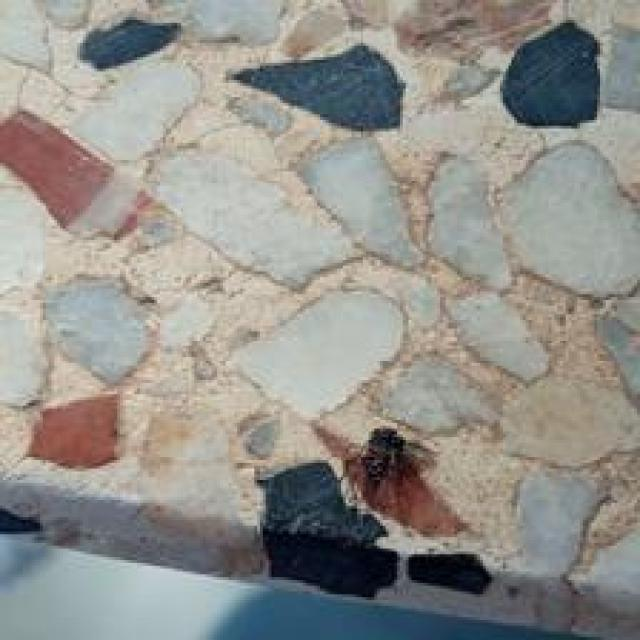Aedes albopictus: (310, 417, 473, 540)
